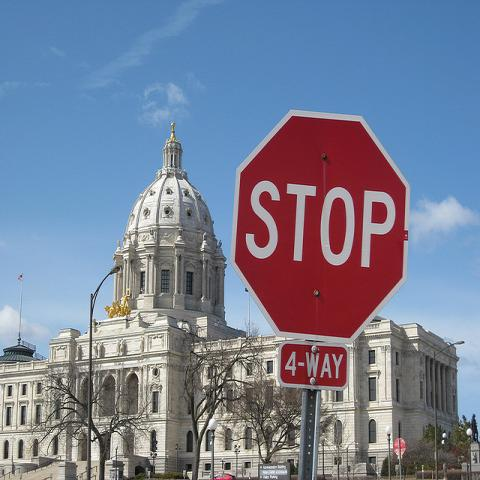car: (214, 473, 234, 479)
